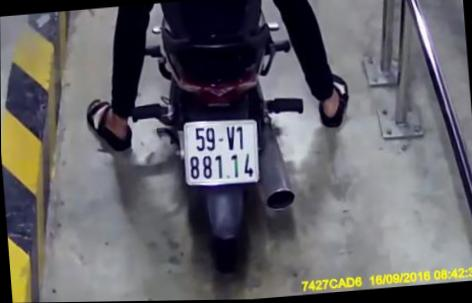LP: (180, 116, 261, 190)
